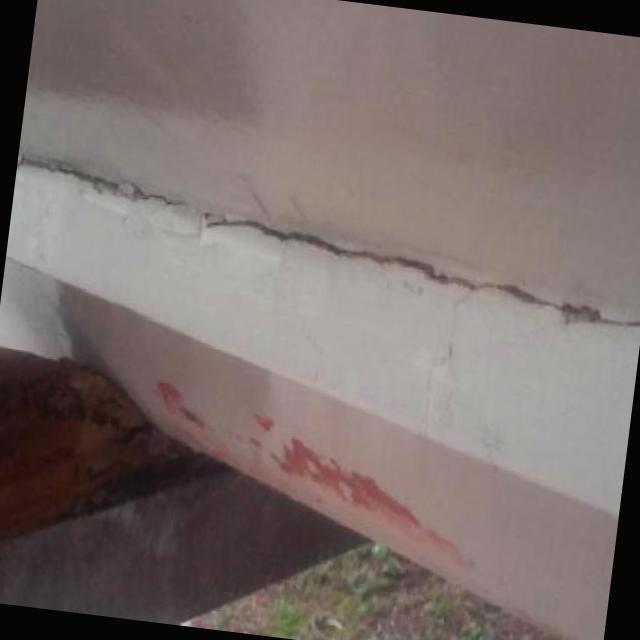crack: (16, 149, 640, 334)
